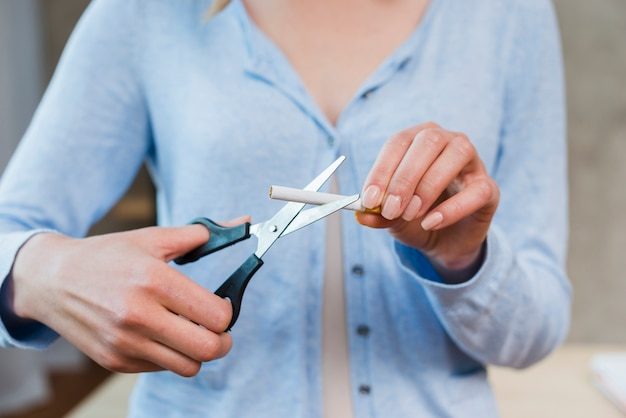cigarette: (268, 182, 389, 219)
